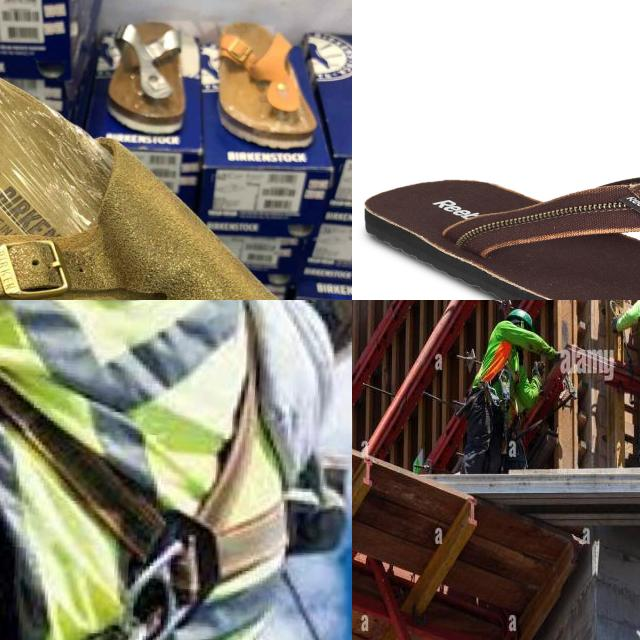Harness: (0, 300, 311, 640), (478, 323, 528, 449)
Sandals: (0, 4, 336, 300), (362, 174, 640, 300)
